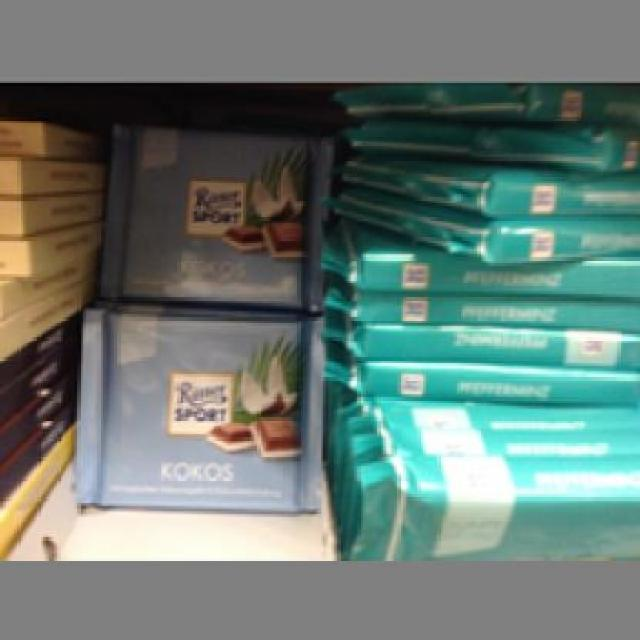Chocolate: (68, 306, 314, 514), (88, 120, 326, 309)
